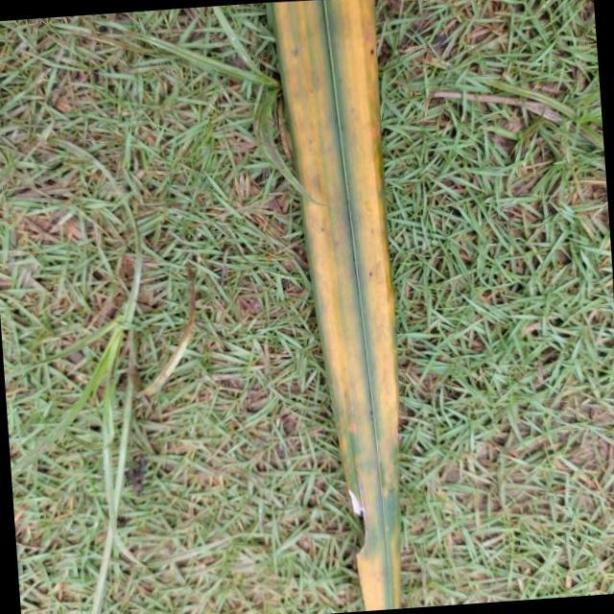Megnesium: (268, 0, 404, 614)
